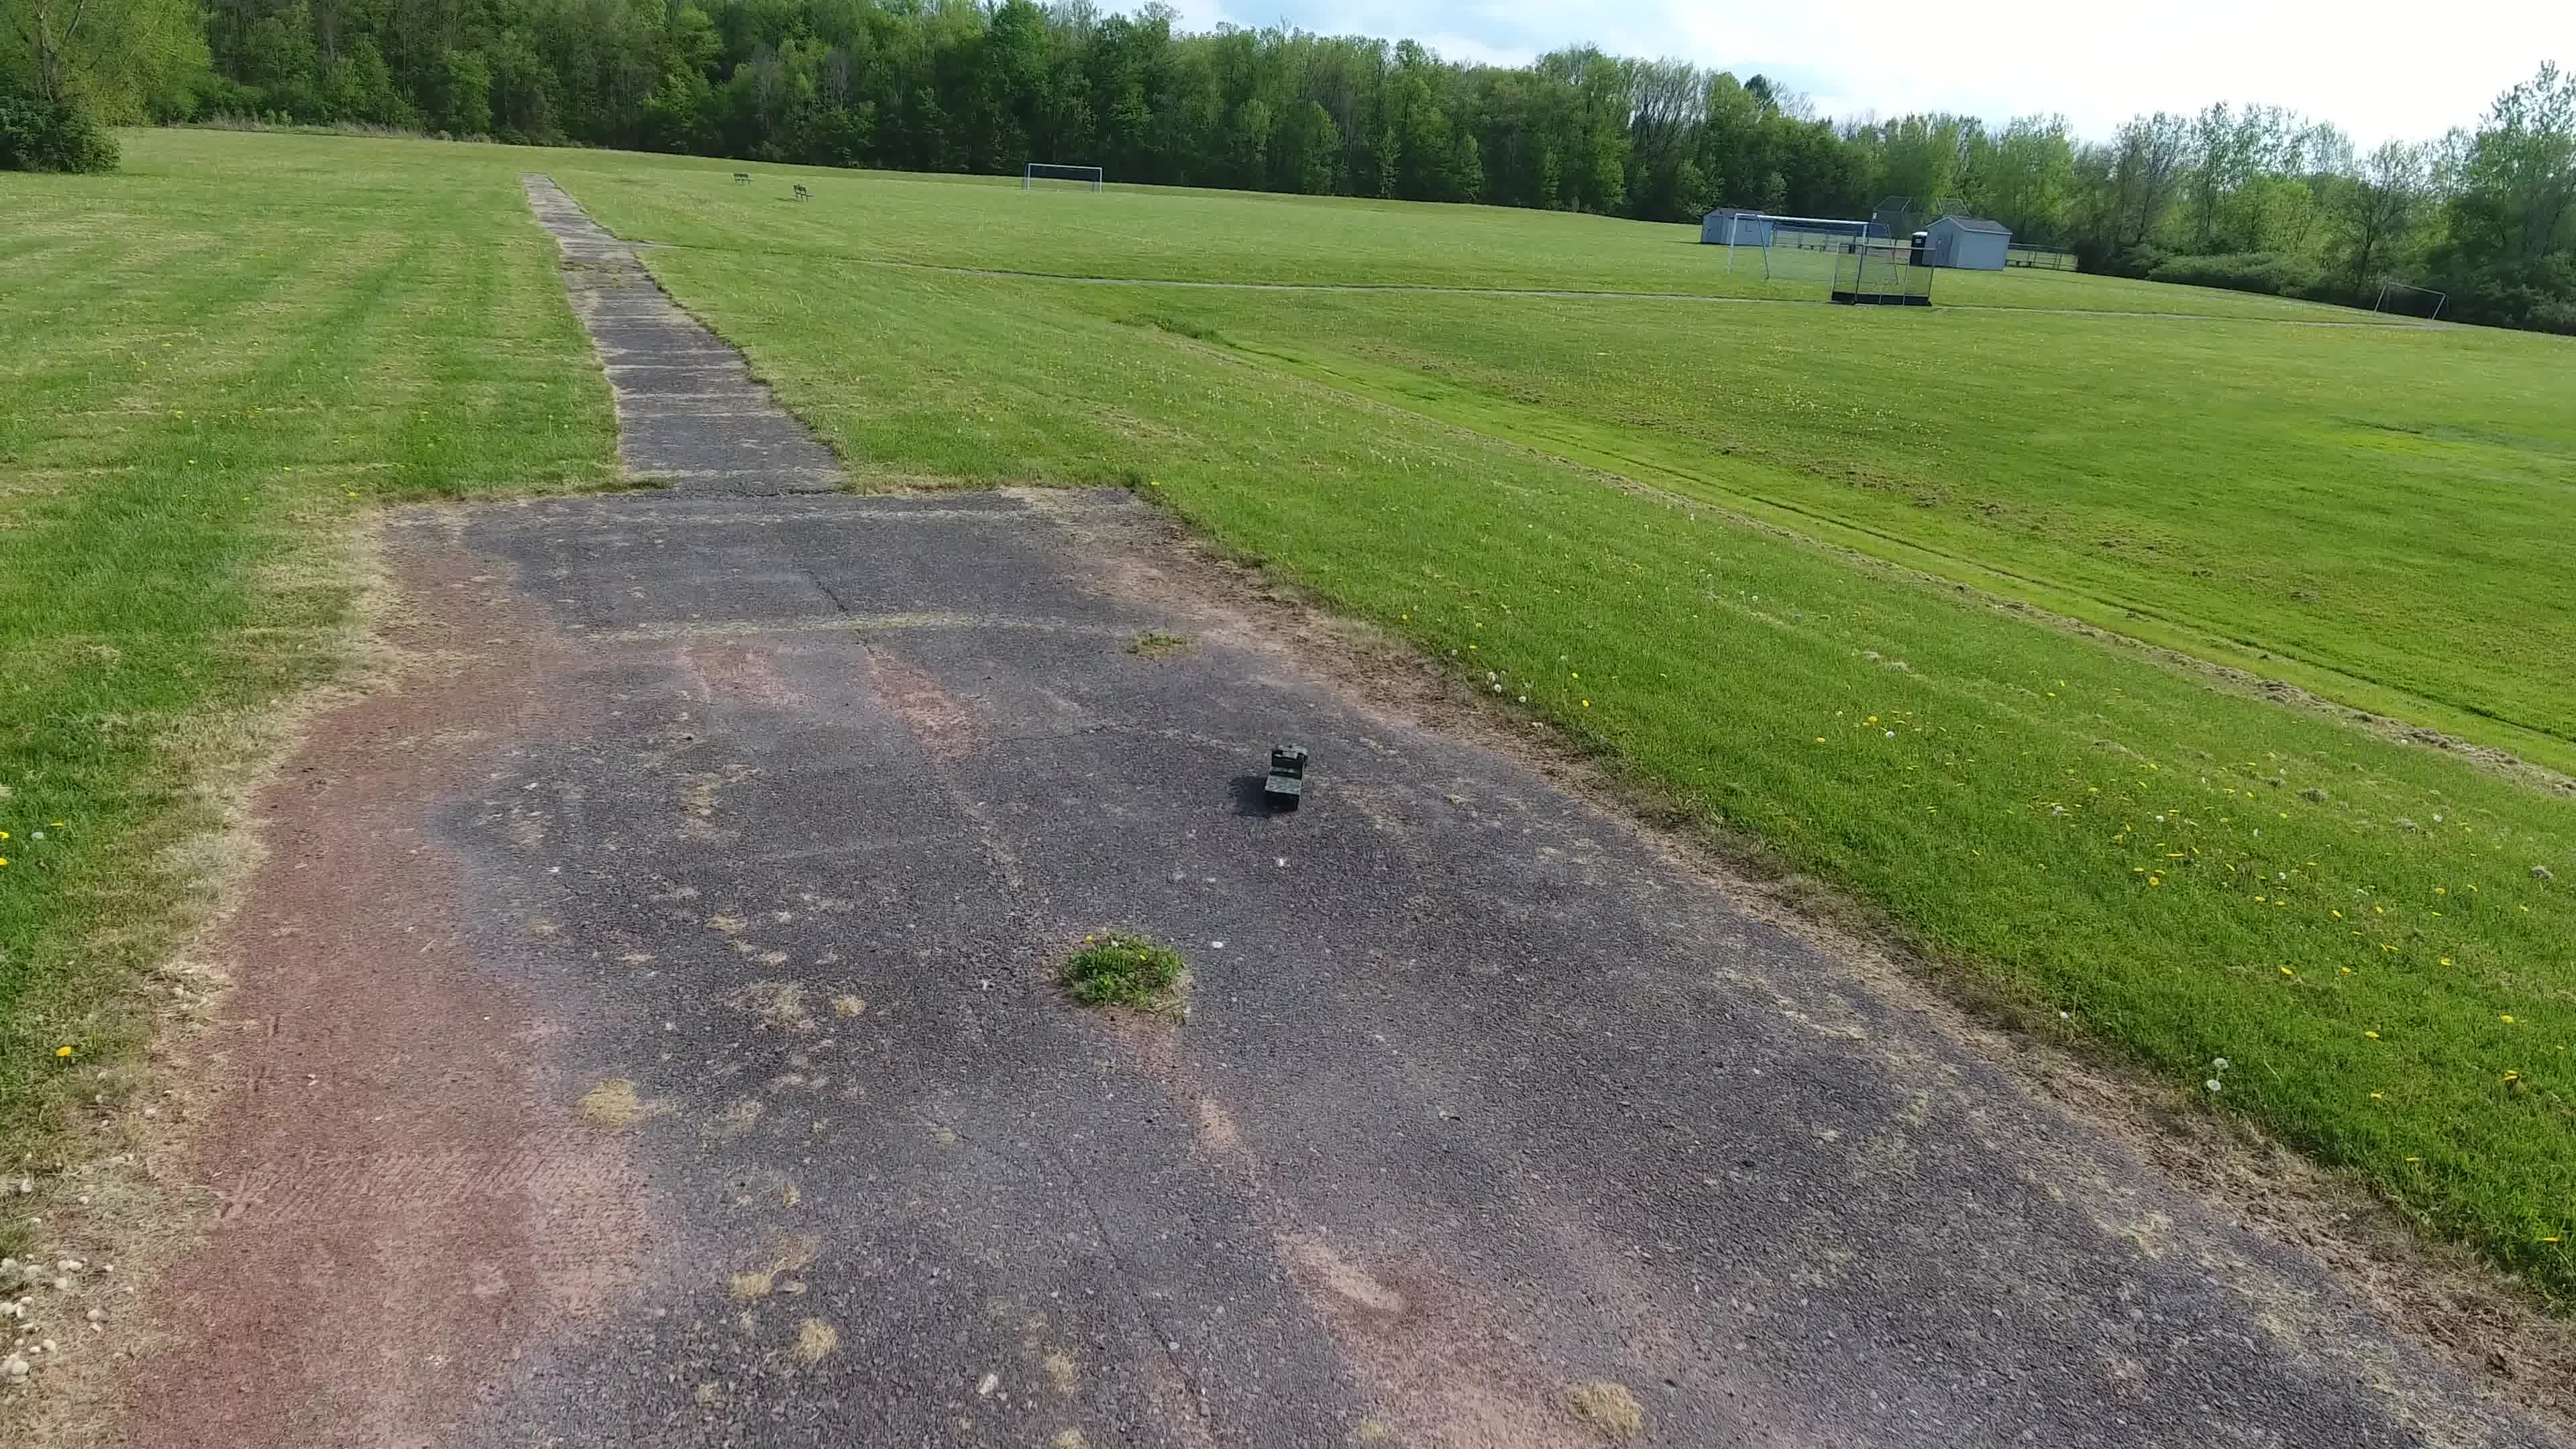transporter9: (1258, 741, 1311, 805)
